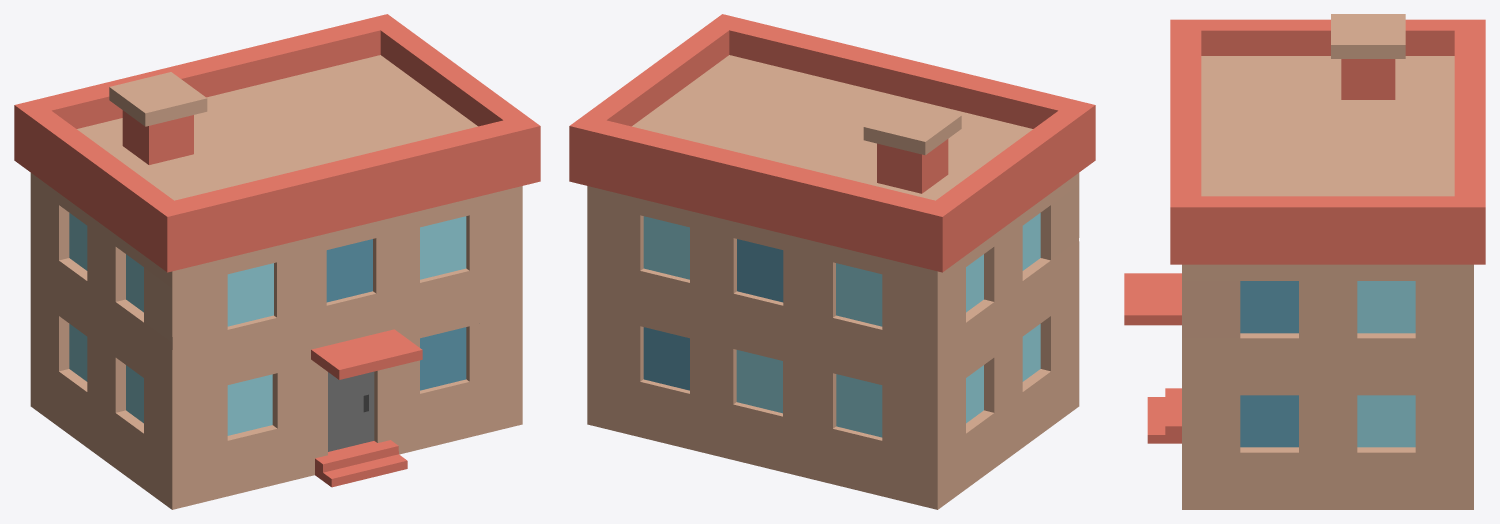
File: House 2.2.fbx
3 renders of one model, left to right at view 1: azimuth 30°, elevation 25°; view 2: azimuth 150°, elevation 25°; view 3: azimuth 270°, elevation 25°, orthographic. The views are drawn at different scales.
Parts seen in each view (by area): view 1: House_Type2_2; view 2: House_Type2_2; view 3: House_Type2_2.
Part boxes in pixels (bbox=[...]): House_Type2_2: bbox=[14, 14, 540, 509]; House_Type2_2: bbox=[569, 14, 1095, 509]; House_Type2_2: bbox=[1124, 14, 1485, 509].
Size of the model in its own units: 702 by 598 by 572.
